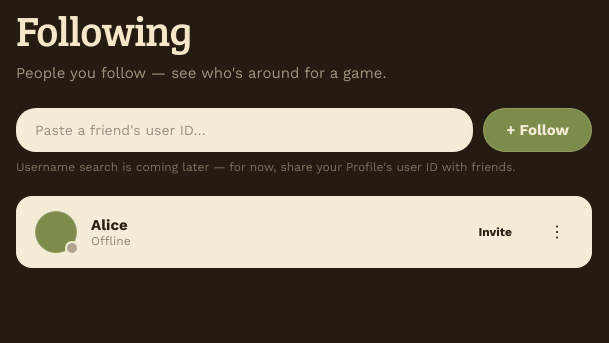
Test: FriendsContainer › opens the overflow menu with Unfollow and Block options
This screenshot has width=609, height=343.
What coordinates should you click on to do the following:
click the button named "More options for Alice"
I would click on:
 (557, 232)
Its box is [541, 216, 573, 248].
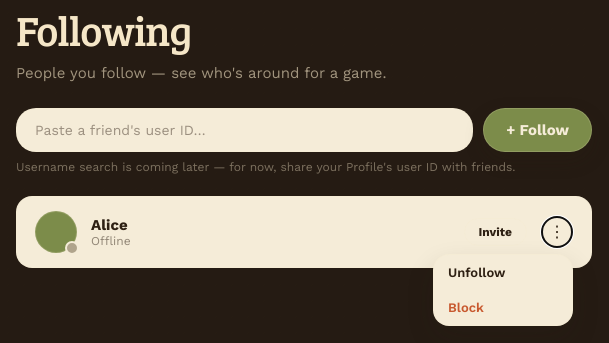
Now the menu item "Unfollow" is shown, box [434, 255, 572, 290]
Now the menu item "Block" is shown, box [434, 290, 572, 325]
